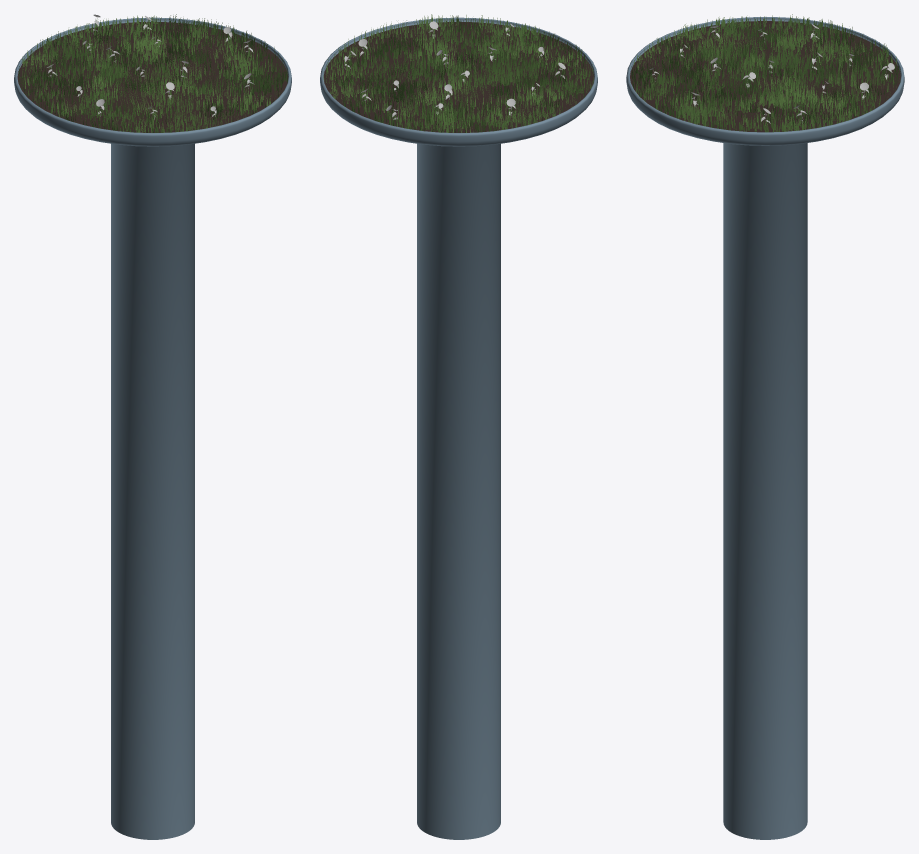
The model's file is Arena.fbx.
3 renders of one model, left to right at view 1: azimuth 30°, elevation 25°; view 2: azimuth 150°, elevation 25°; view 3: azimuth 270°, elevation 25°, orthographic.
Visible parts, largest first — view 1: Arena, Grass, Flowers; view 2: Arena, Grass, Flowers; view 3: Arena, Grass, Flowers.
Part boxes in pixels (x1,y1,x2,y2): Arena: [14, 17, 291, 839]; Grass: [18, 14, 287, 132]; Flowers: [47, 14, 254, 119]; Arena: [320, 17, 597, 839]; Grass: [323, 14, 593, 132]; Flowers: [344, 21, 565, 119]; Arena: [626, 17, 904, 839]; Grass: [631, 14, 900, 132]; Flowers: [649, 24, 894, 124].
Size of the model in its own units: 2047 by 6187 by 2047.
